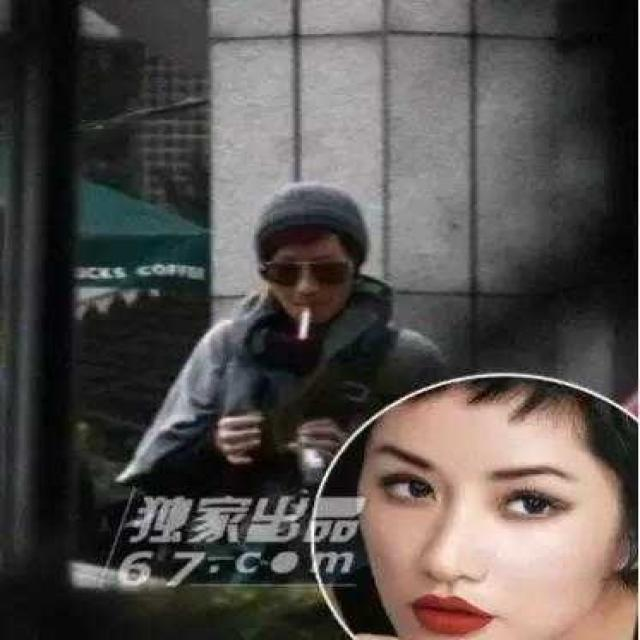Smooking: (276, 298, 318, 349)
